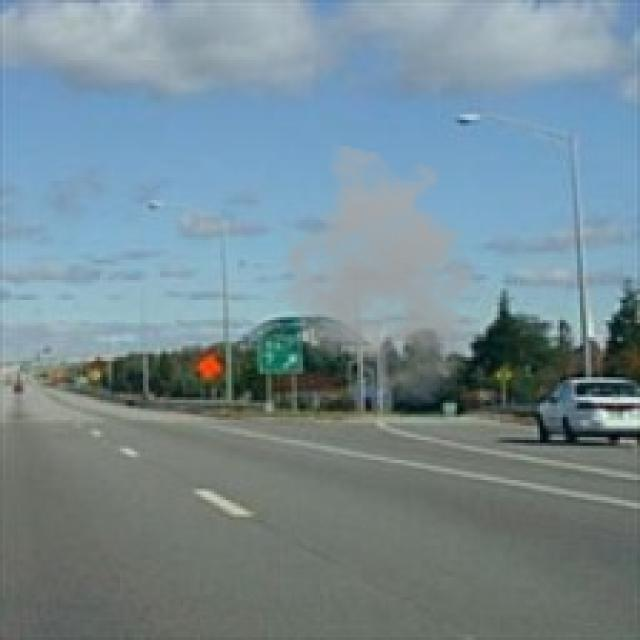smoke: (271, 143, 500, 408)
